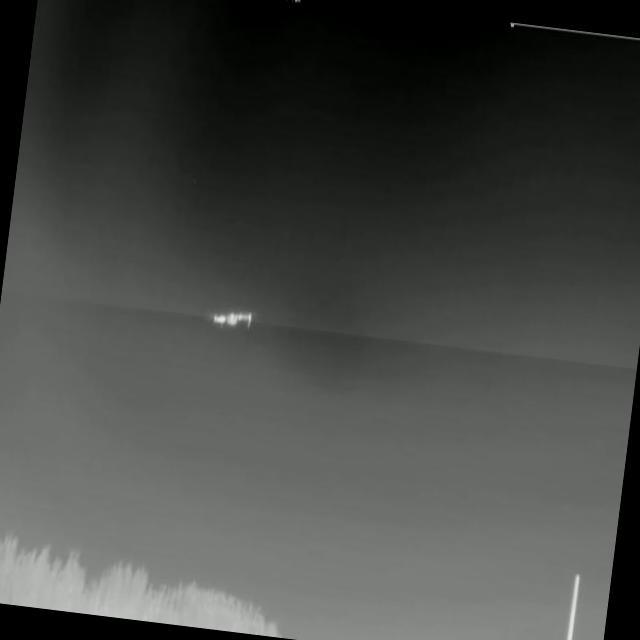DRONE: (200, 298, 266, 340)
